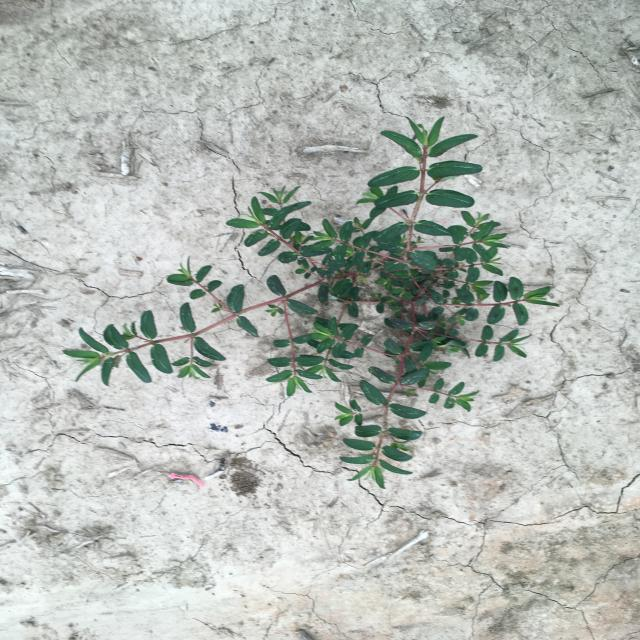SpottedSpurge: (61, 116, 562, 489)
